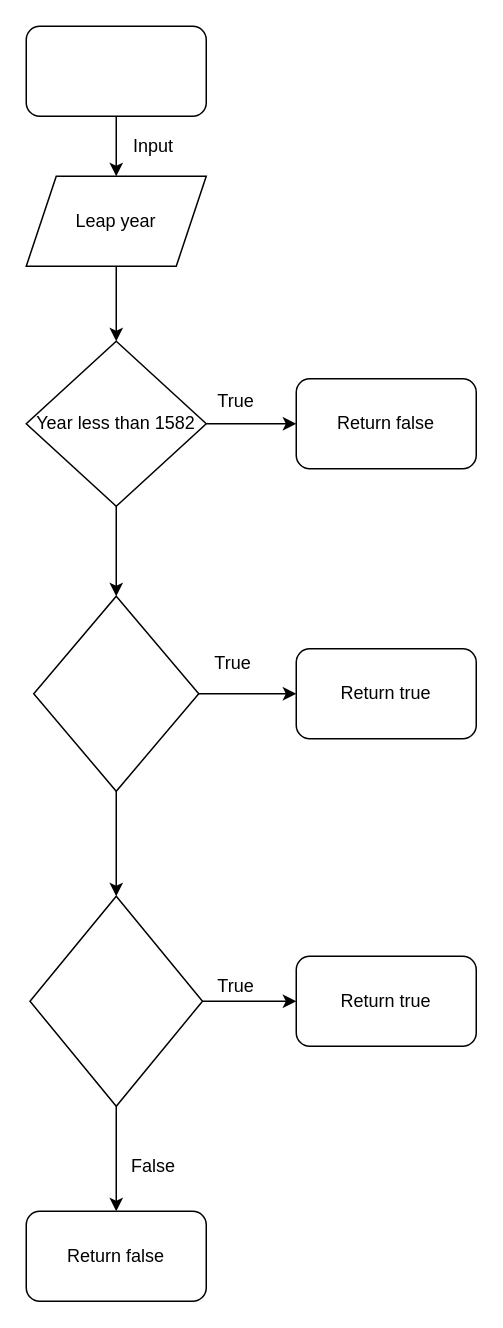
The diagram is 503 pixels wide and 1328 high, and some of its shapes have lost their labels. Each missing label, with the centre of its shape:
"Start" goes at point (115, 70).
"Year divisible by 100 and 400" goes at point (115, 693).
"Year divisible by 4 and not 100" goes at point (115, 1000).
